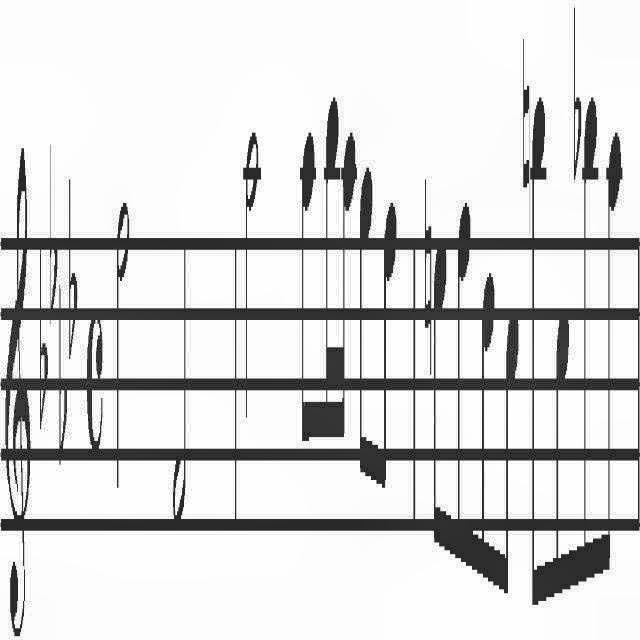Bass-clef: (1, 150, 35, 640)
Bemol: (65, 152, 79, 358), (46, 132, 58, 328), (58, 278, 68, 474), (38, 247, 48, 429)
Eighth-note: (603, 100, 625, 580), (529, 59, 546, 640), (582, 75, 598, 605), (452, 180, 472, 584), (378, 172, 402, 496), (298, 115, 318, 473), (553, 292, 571, 640), (432, 200, 448, 586), (358, 152, 374, 496), (502, 274, 518, 614), (480, 254, 494, 620), (570, 1, 582, 208)
Half-note: (168, 214, 190, 526), (244, 105, 262, 412), (113, 198, 131, 504)
Sixteenth-note: (322, 90, 340, 462), (340, 123, 356, 477)
